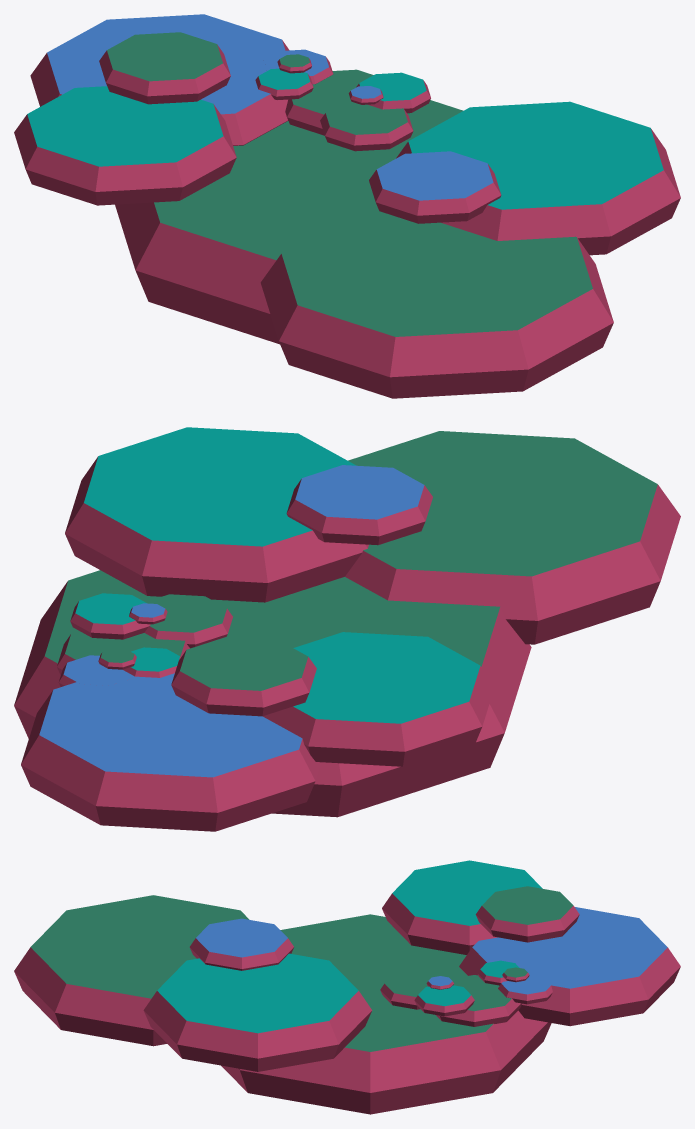
File: Coral2.fbx
The picture shows the model from 3 angles, top to bottom: view 1: azimuth 30°, elevation 25°; view 2: azimuth 150°, elevation 25°; view 3: azimuth 270°, elevation 25°; orthographic projection. The views are drawn at different scales.
Visible parts, largest first — view 1: Cylinder; view 2: Cylinder; view 3: Cylinder.
Boxes of the visible parts, x1=… form: Cylinder: x1=14, y1=14, x2=680, y2=398; Cylinder: x1=14, y1=427, x2=680, y2=831; Cylinder: x1=14, y1=860, x2=680, y2=1114.
Bounding box in the file's own units: 230 × 61.37 × 347.
